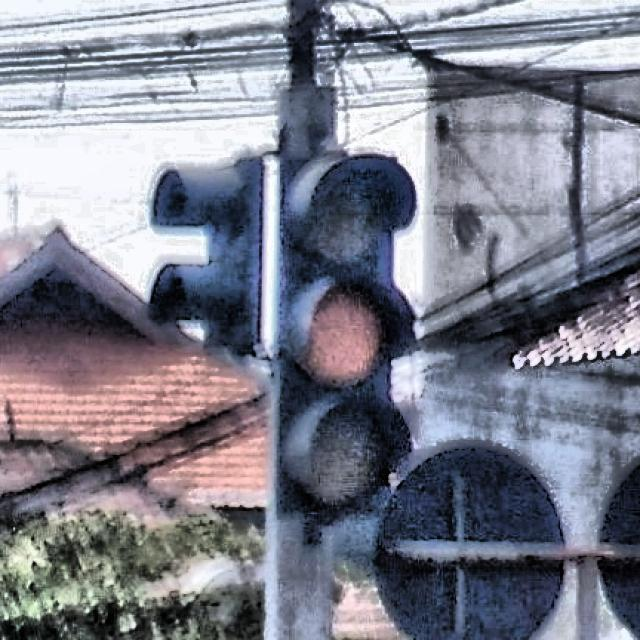yellow: (275, 147, 415, 520)
